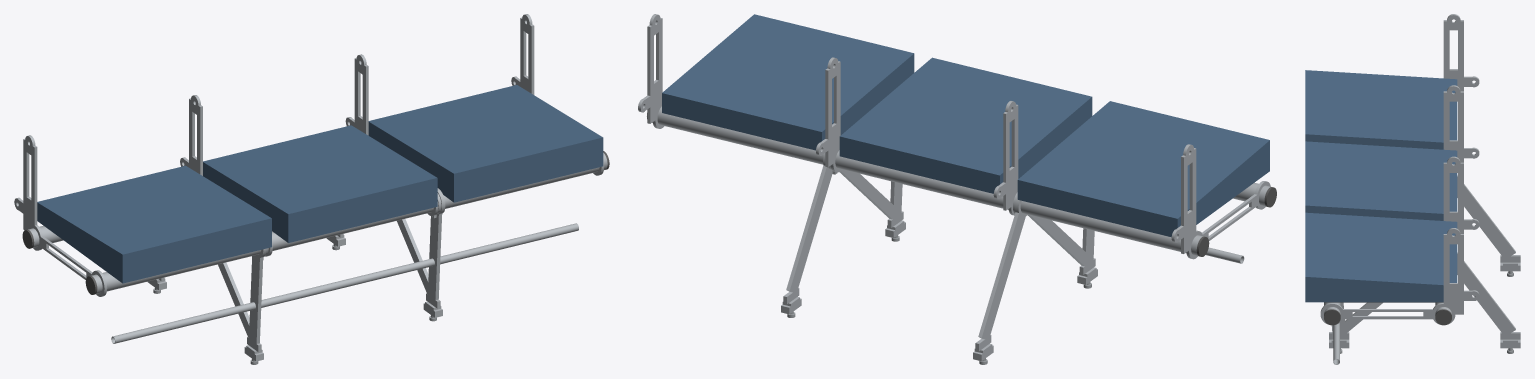
File: step_02.glb
3 renders of one model, left to right at view 1: azimuth 30°, elevation 25°; view 2: azimuth 150°, elevation 25°; view 3: azimuth 270°, elevation 25°, orthographic. The views are drawn at different scales.
Visible parts, largest first — view 1: part__seat 1 cushion cover, part__seat 3 cushion cover, part__seat 2 cushion cover, part__baggage bar, part__front beam tube, part__spreader 1, part__leg 2, part__leg 1, part__spreader 3, part__spreader 4, part__spreader 2; view 2: part__seat 1 cushion cover, part__seat 2 cushion cover, part__seat 3 cushion cover, part__rear beam tube, part__leg 1, part__leg 2, part__spreader 1, part__spreader 2, part__spreader 3, part__spreader 4; view 3: part__seat 3 cushion cover, part__seat 1 cushion cover, part__seat 2 cushion cover, part__spreader 4, part__leg 2, part__leg 1, part__spreader 2, part__spreader 3, part__spreader 1, part__baggage bar, part__beam end cap 3, part__beam end cap 4 (+2 smaller).
Boxes of the visible parts, x1=… form: part__seat 1 cushion cover: x1=37, y1=165, x2=271, y2=283; part__seat 3 cushion cover: x1=368, y1=85, x2=603, y2=202; part__seat 2 cushion cover: x1=203, y1=125, x2=437, y2=242; part__baggage bar: x1=111, y1=223, x2=578, y2=343; part__front beam tube: x1=91, y1=153, x2=607, y2=293; part__spreader 1: x1=14, y1=135, x2=107, y2=296; part__leg 2: x1=337, y1=188, x2=445, y2=308; part__leg 1: x1=158, y1=248, x2=266, y2=352; part__spreader 3: x1=345, y1=54, x2=438, y2=216; part__spreader 4: x1=511, y1=14, x2=604, y2=175; part__spreader 2: x1=180, y1=95, x2=272, y2=256; part__seat 1 cushion cover: x1=1017, y1=101, x2=1269, y2=237; part__seat 2 cushion cover: x1=839, y1=57, x2=1092, y2=193; part__seat 3 cushion cover: x1=662, y1=14, x2=914, y2=150; part__rear beam tube: x1=652, y1=106, x2=1203, y2=256; part__leg 1: x1=975, y1=197, x2=1095, y2=351; part__leg 2: x1=783, y1=153, x2=903, y2=304; part__spreader 1: x1=1171, y1=144, x2=1270, y2=259; part__spreader 2: x1=993, y1=101, x2=1018, y2=215; part__spreader 3: x1=816, y1=57, x2=842, y2=172; part__spreader 4: x1=638, y1=14, x2=664, y2=128; part__seat 3 cushion cover: x1=1305, y1=212, x2=1457, y2=302; part__seat 1 cushion cover: x1=1305, y1=70, x2=1457, y2=149; part__seat 2 cushion cover: x1=1305, y1=141, x2=1457, y2=220; part__spreader 4: x1=1320, y1=228, x2=1479, y2=324; part__leg 2: x1=1329, y1=252, x2=1520, y2=339; part__leg 1: x1=1457, y1=175, x2=1520, y2=262; part__spreader 2: x1=1443, y1=85, x2=1479, y2=162; part__spreader 3: x1=1443, y1=156, x2=1479, y2=233; part__spreader 1: x1=1443, y1=14, x2=1479, y2=91; part__baggage bar: x1=1333, y1=323, x2=1339, y2=364; part__beam end cap 3: x1=1324, y1=309, x2=1340, y2=325; part__beam end cap 4: x1=1435, y1=309, x2=1451, y2=325.
Bounding box in the file's own units: 1552 × 630 × 638.
